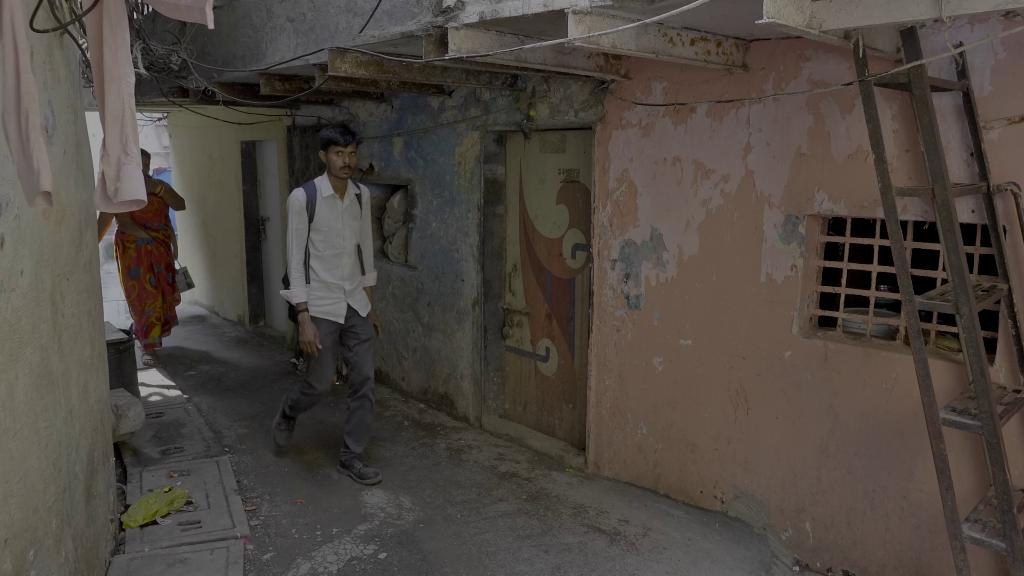garbage: (116, 486, 189, 528)
